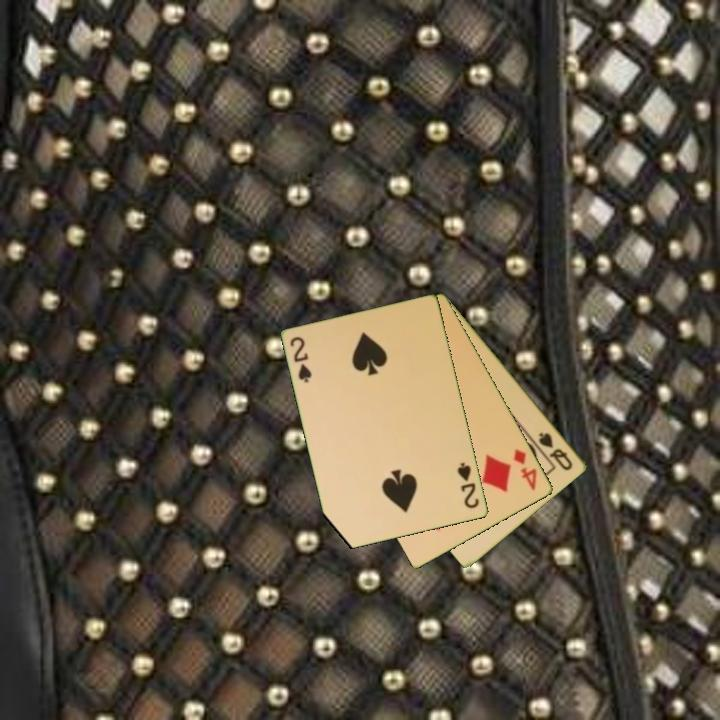2s: (454, 459, 482, 512), (287, 333, 315, 386)
4d: (510, 445, 540, 493)
Qs: (535, 429, 576, 473)
